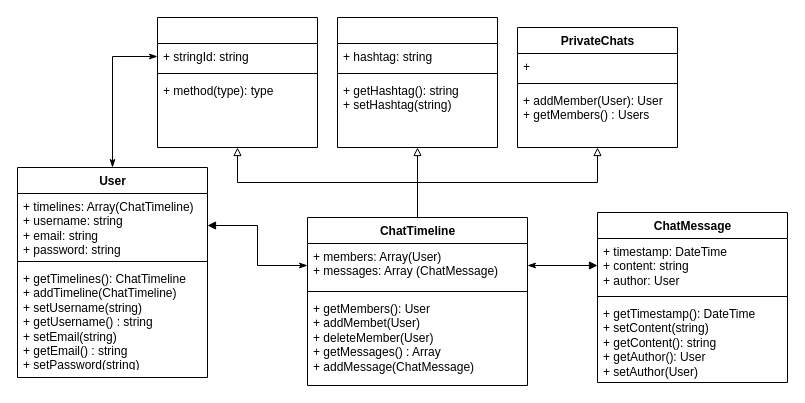
Some shapes in this 805 by 403 pixel diagram are drawn without their labels. Each missing label, with the box of its shape:
ChatGroup: (336, 16, 498, 148)
ChatTeam: (156, 16, 318, 148)
